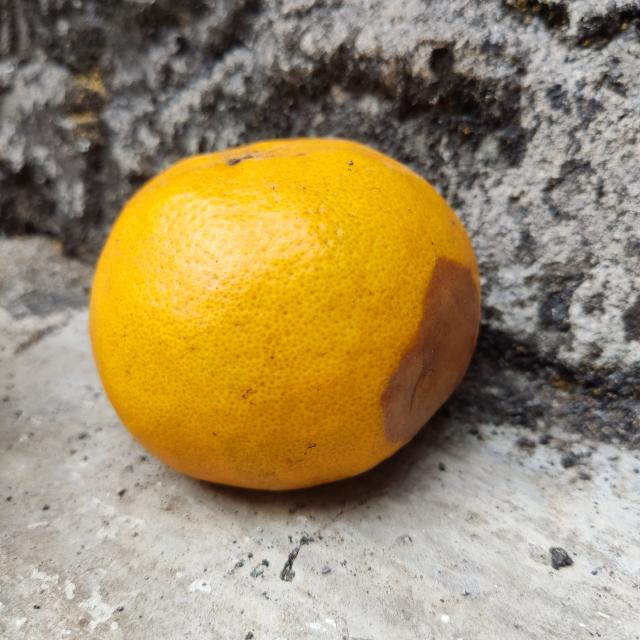orange: (88, 136, 482, 496)
